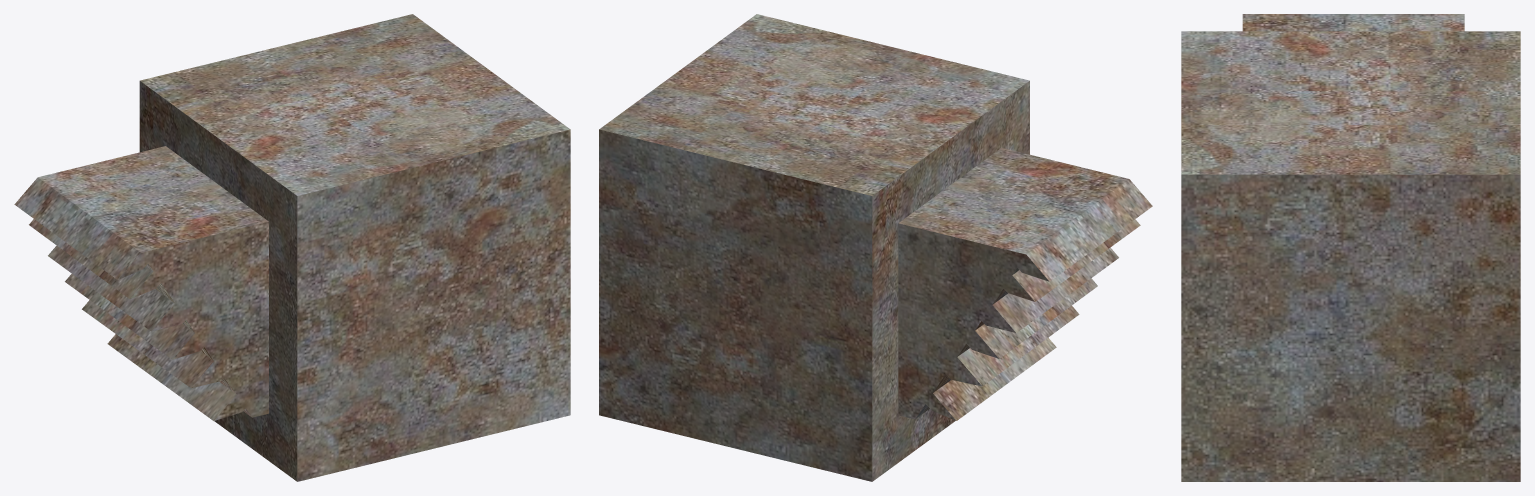
File: gaspipe_Vent_Box_Full.fbx
The picture shows the model from 3 angles, left to right: view 1: azimuth 30°, elevation 25°; view 2: azimuth 150°, elevation 25°; view 3: azimuth 270°, elevation 25°; orthographic projection. The views are drawn at different scales.
Parts seen in each view (by area): view 1: pCube2; view 2: pCube2; view 3: pCube2.
Boxes of the visible parts, x1,y1,x2,y2 form: pCube2: [14, 14, 570, 481]; pCube2: [599, 14, 1152, 481]; pCube2: [1181, 14, 1520, 481].
Bounding box in the file's own units: 1.55 × 1 × 1.
Materials: 1 (1 with a texture image).
